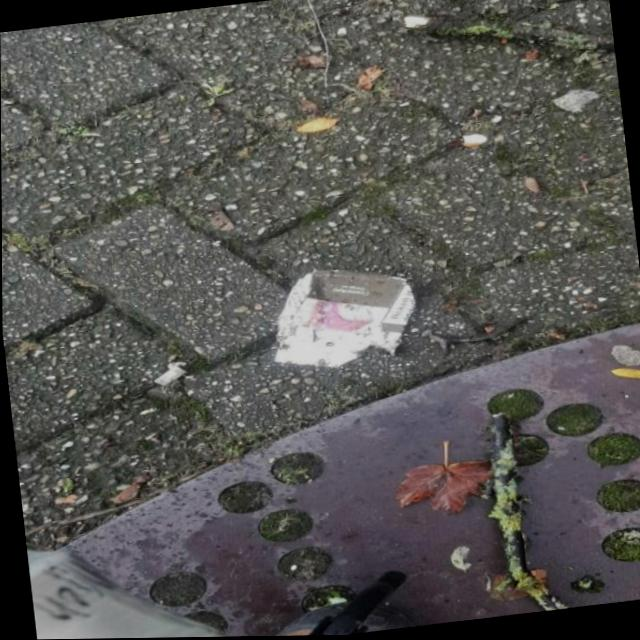Paper: (261, 257, 422, 377)
